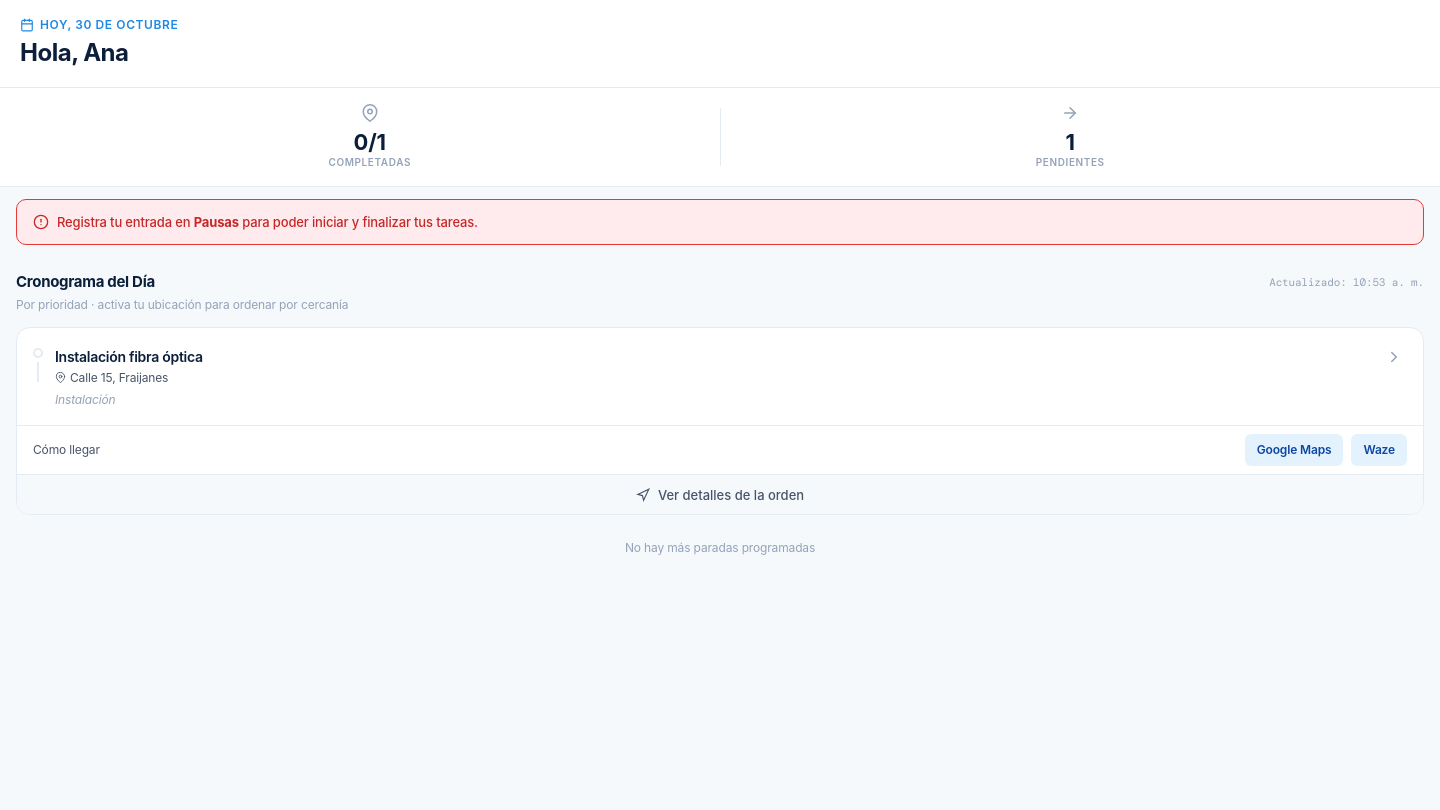
Test: RutaDiariaPage — tareas y jornada (HU-5) › sin jornada avisa y no deja iniciar la tarea
Click the button named "Ver detalles de Instalación" at (1394, 357), box [1381,344,1407,370]
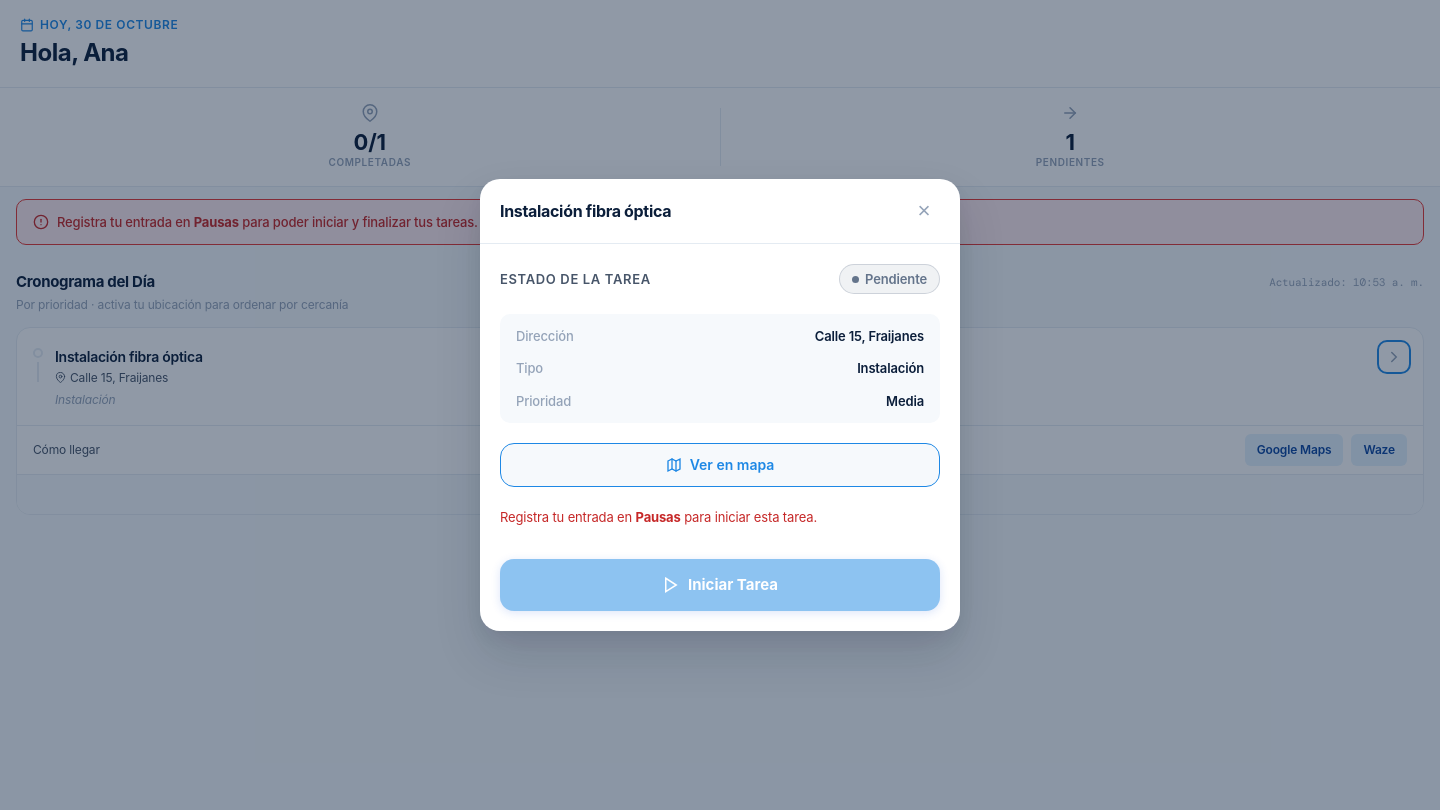
Expected: the button "Iniciar Tarea" is disabled, [500,559,940,611]
Expected: the text "Registra tu entrada en Pausas para iniciar esta tarea." is shown, [500,509,817,525]
